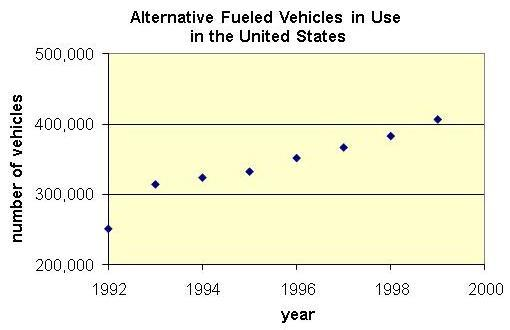axis: (100, 260, 488, 273), (100, 48, 112, 271)
point: (431, 112, 446, 127), (241, 164, 257, 178), (288, 152, 305, 165), (382, 130, 400, 142), (148, 178, 164, 191), (337, 140, 351, 154), (196, 172, 210, 185), (100, 224, 115, 235)
